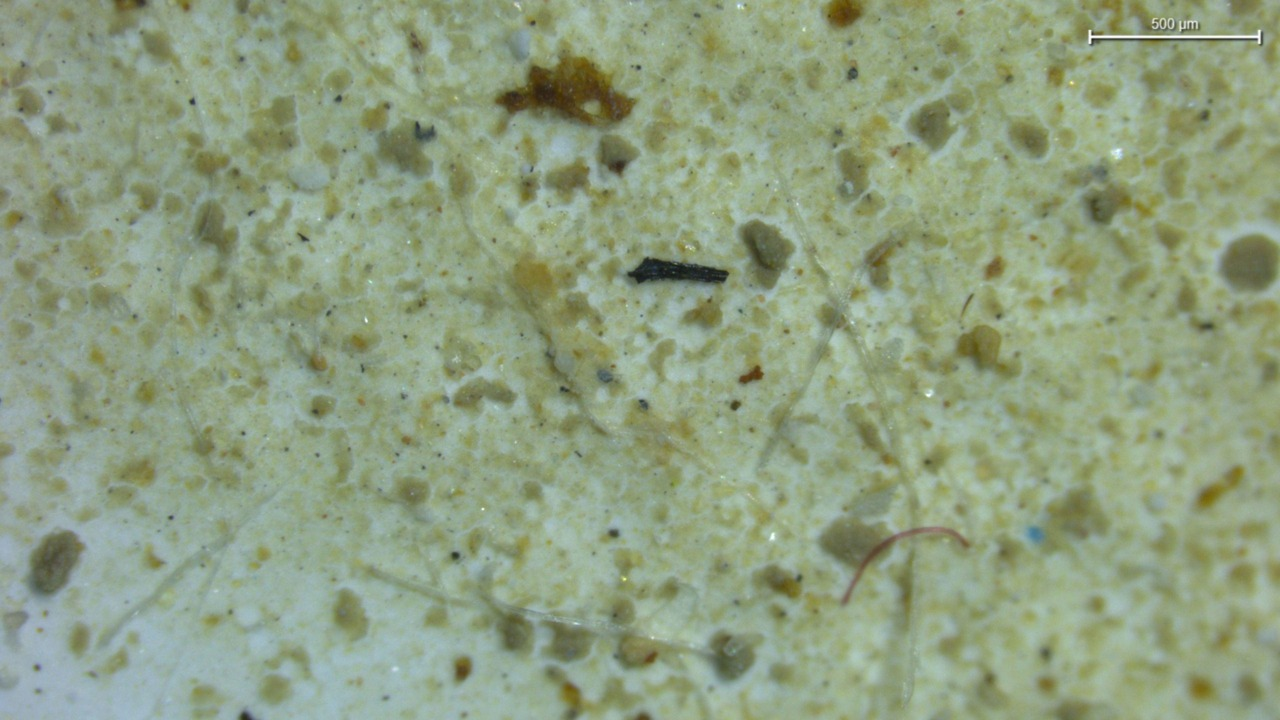microplastic_fragment: (289, 163, 330, 190), (508, 29, 530, 60)
